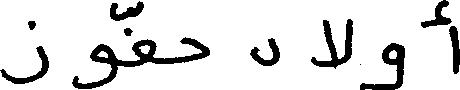X: (0, 16, 47, 88), (76, 0, 114, 89), (422, 0, 459, 78), (361, 38, 403, 89), (314, 14, 349, 73), (135, 0, 153, 70), (255, 33, 277, 70), (184, 32, 207, 67)
